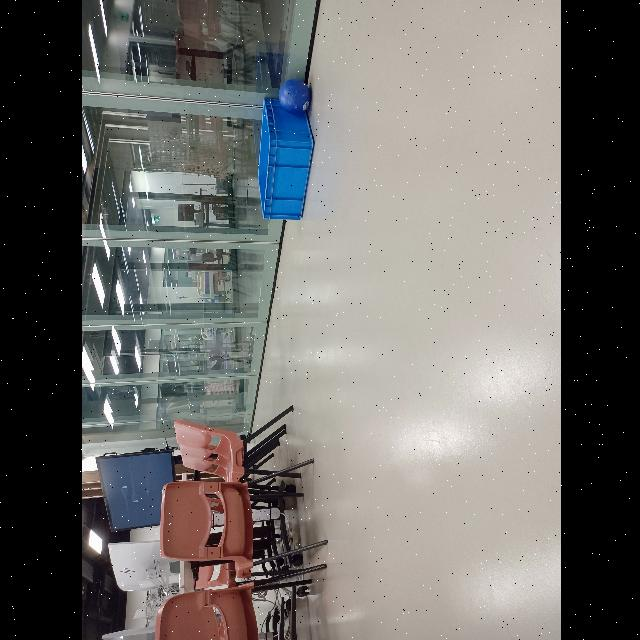B: (277, 80, 309, 114)
